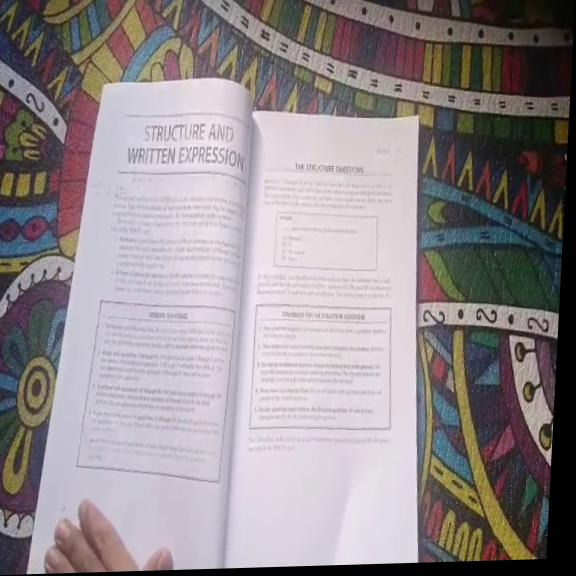Kertas: (208, 120, 421, 569), (83, 112, 303, 494)
